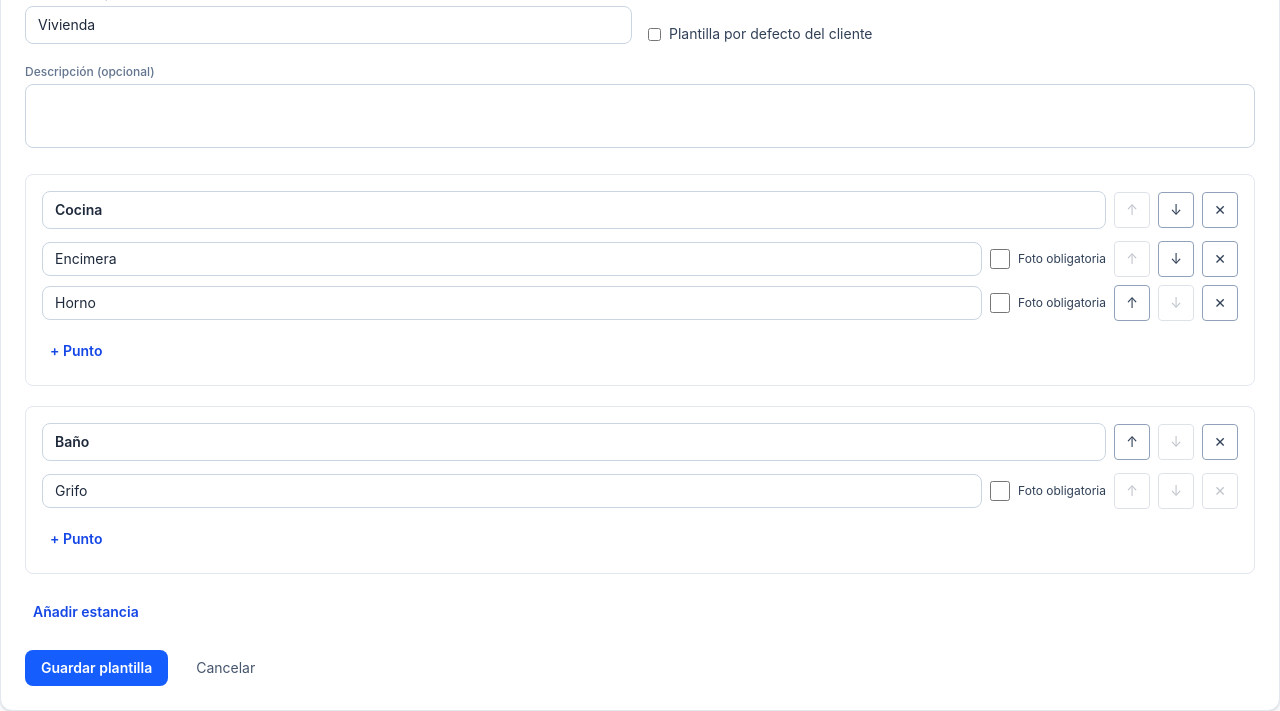
it: EditorPlantilla: errores y foco › aplana los errores anidados de DRF
(page scrolled)
Click the button "Guardar plantilla" at (97, 668), box [25, 650, 168, 686]
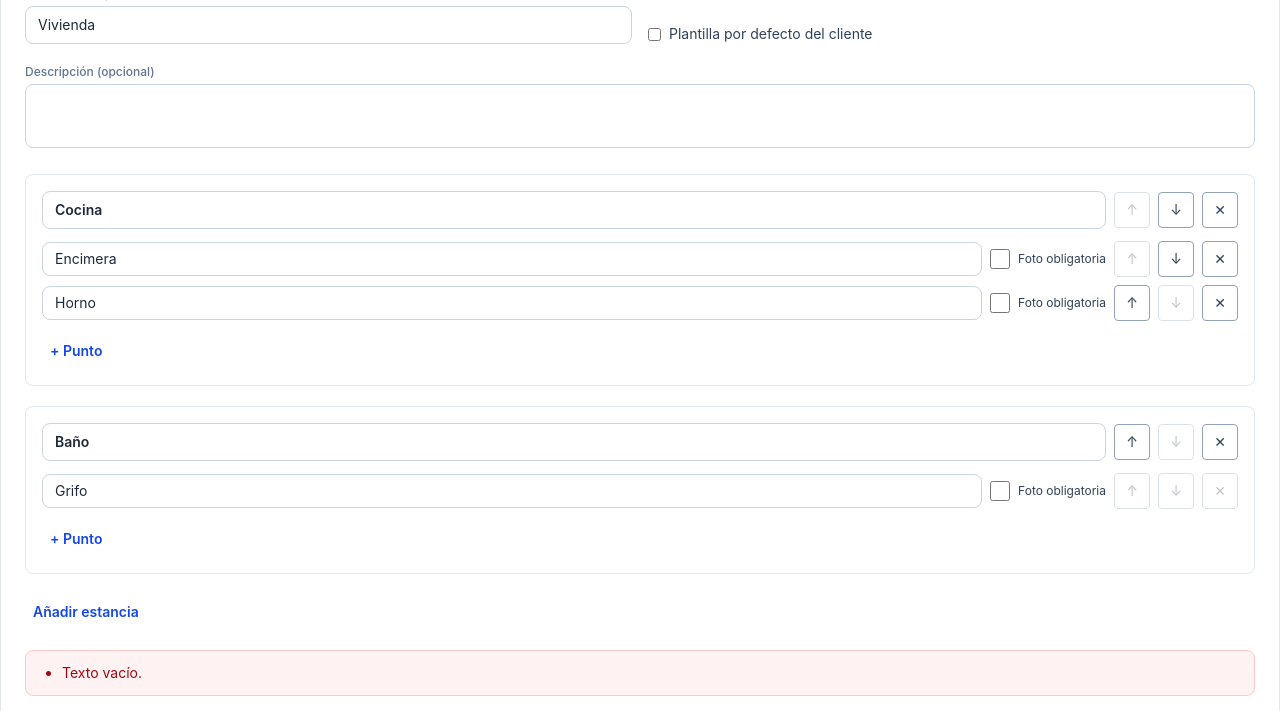
Now the message shows "Texto vacío", box [62, 664, 142, 681]
